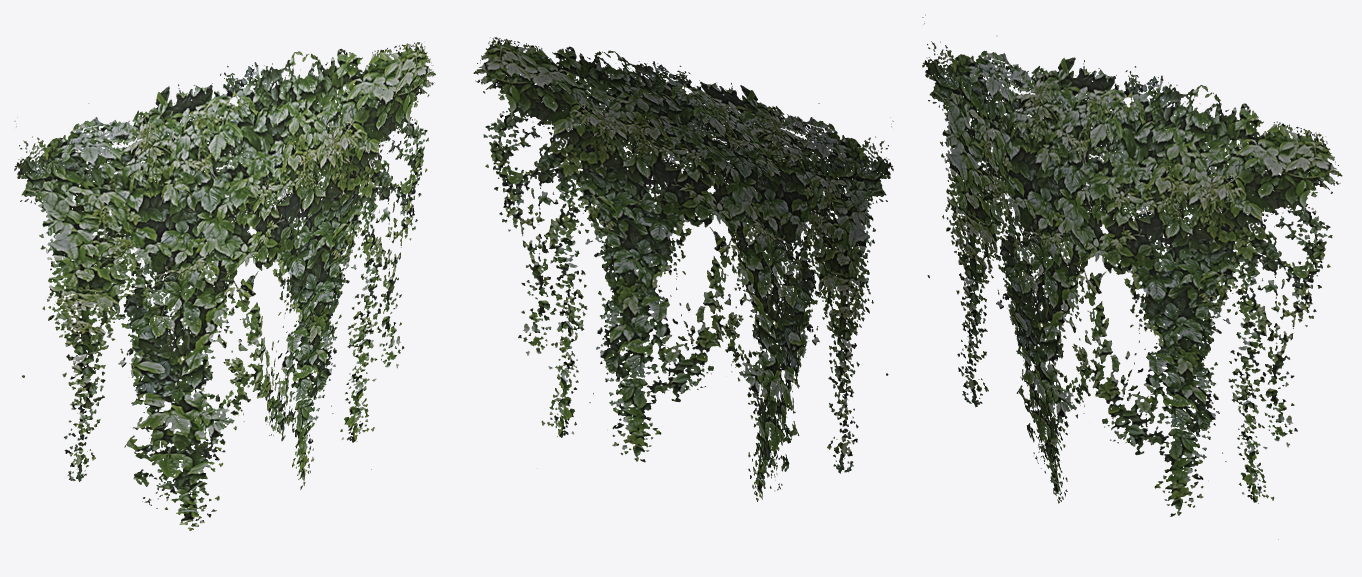
File: RV_Wall_Vines_00.fbx
3 views of the same model, side by side, from view 1: azimuth 30°, elevation 25°; view 2: azimuth 150°, elevation 25°; view 3: azimuth 330°, elevation 25° (orthographic).
Parts seen in each view (by area): view 1: RV_Wall_Vines_00; view 2: RV_Wall_Vines_00; view 3: RV_Wall_Vines_00.
Part boxes in pixels (x1,y1,x2,y2): RV_Wall_Vines_00: (14,42,435,530); RV_Wall_Vines_00: (473,37,893,501); RV_Wall_Vines_00: (922,14,1342,539).
Bounding box in the file's own units: 179 × 179 × 29.84.
